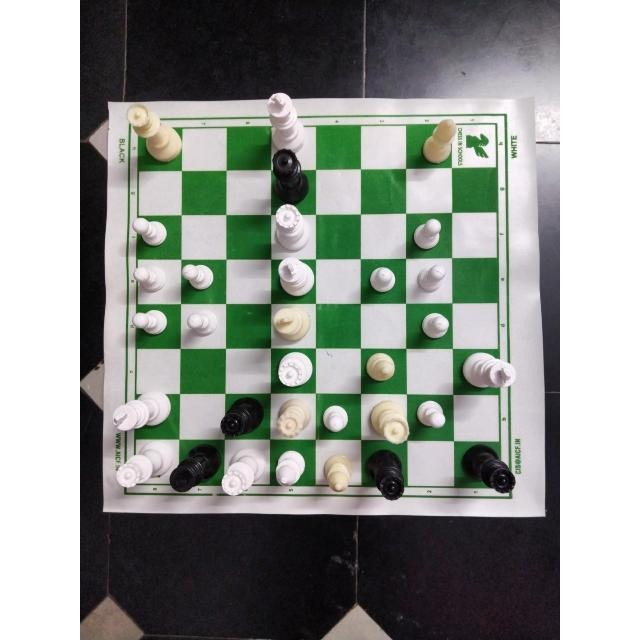black-king: (167, 445, 221, 494)
black-queen: (458, 444, 517, 497), (266, 149, 314, 207), (364, 450, 411, 502), (218, 395, 266, 440)
white-bishop: (419, 119, 457, 167), (268, 445, 309, 489), (320, 451, 358, 495), (363, 348, 399, 388)
white-king: (457, 347, 518, 396), (263, 93, 305, 154), (109, 393, 173, 431), (275, 255, 317, 298), (270, 303, 314, 343)
white-pawn: (129, 215, 171, 249), (411, 398, 450, 434), (319, 400, 353, 440), (131, 262, 171, 296), (184, 307, 222, 341), (409, 216, 444, 251), (365, 264, 401, 298), (131, 306, 171, 336), (181, 260, 217, 293), (414, 261, 448, 295), (416, 311, 451, 344)
white-queen: (122, 103, 188, 165), (112, 441, 174, 487), (367, 399, 413, 449), (270, 202, 314, 252), (221, 449, 265, 497), (272, 396, 313, 438), (274, 347, 314, 390)
